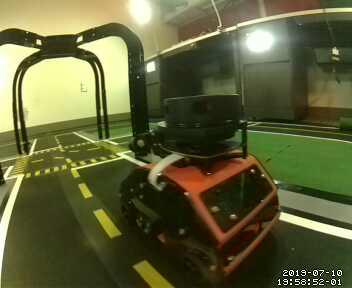pheeno: (119, 93, 281, 286)
